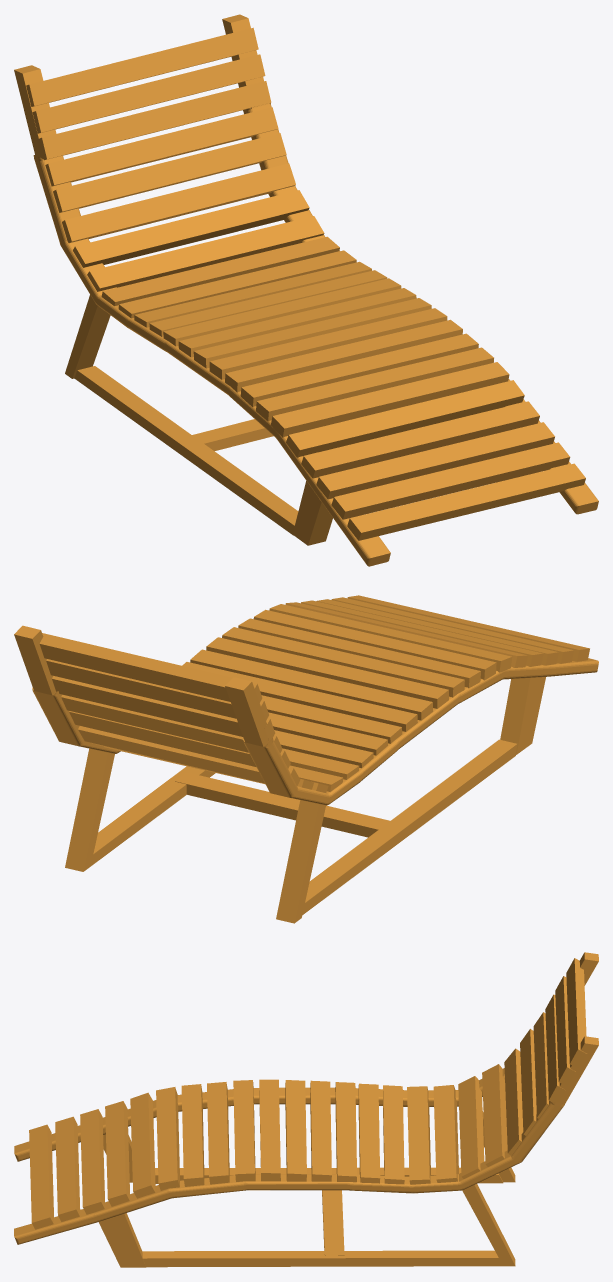
Rendered from sezlong.fbx.
3 views of the same model, one above another, from view 1: azimuth 30°, elevation 25°; view 2: azimuth 150°, elevation 25°; view 3: azimuth 270°, elevation 25° (orthographic). The views are drawn at different scales.
Parts seen in each view (by area): view 1: Plane.032; view 2: Plane.032; view 3: Plane.032.
Boxes of the visible parts, x1,y1,x2,y2 form: Plane.032: (14,14,598,566); Plane.032: (14,595,598,923); Plane.032: (14,952,598,1267).
Bounding box in the file's own units: 45.31 × 49.52 × 118.
